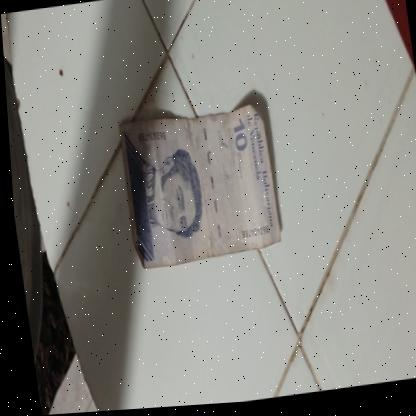vef_front: (115, 107, 281, 274)
